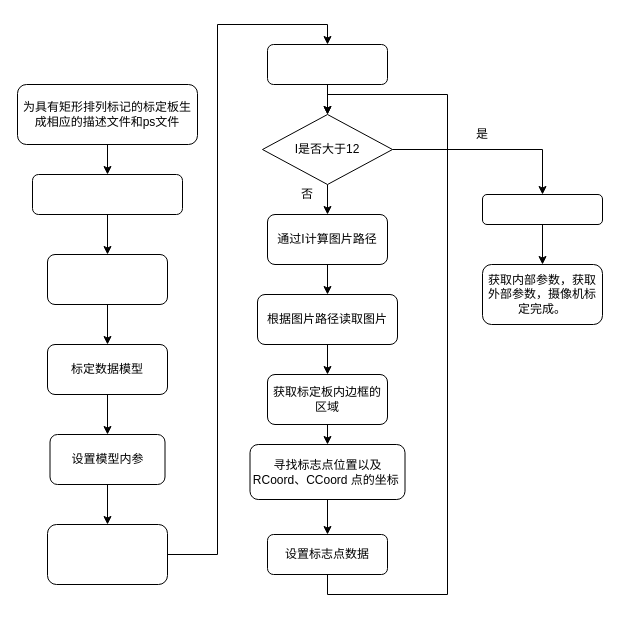
Image size: 620x620. Some labels were removed from this diagram. The shapes that lost their labels are listed below. From the top down, each one's centre as x and y in pixels, then its label:
the point at 327,64: 设置循环变量I，并赋初值1。
the point at 107,194: 设置摄像机初始内部参数
the point at 542,209: 标定相机
the point at 107,279: 定义标定板描述文件
the point at 107,554: 设置模型标定文件
